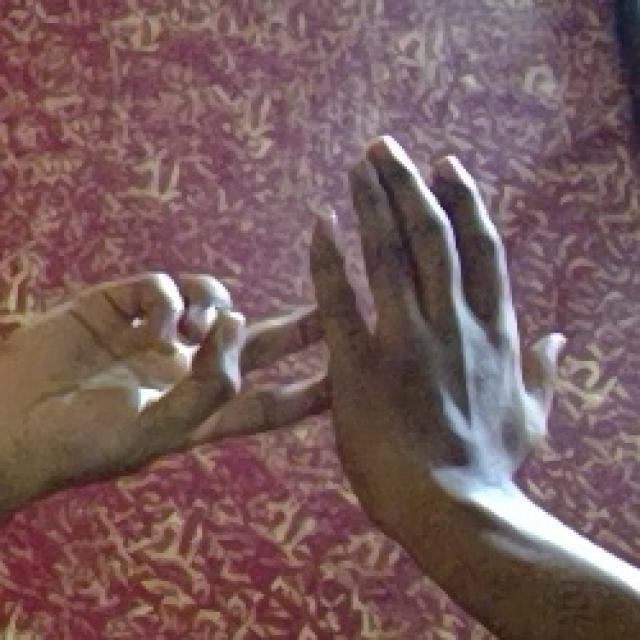Alphabet-N: (0, 124, 584, 523)
